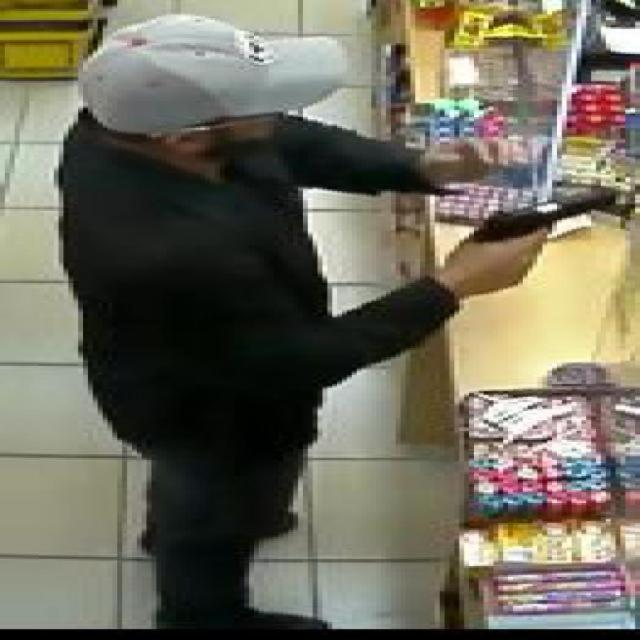pistol: (464, 183, 616, 280)
